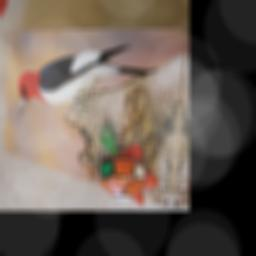Woodpecker: (14, 35, 161, 123)
